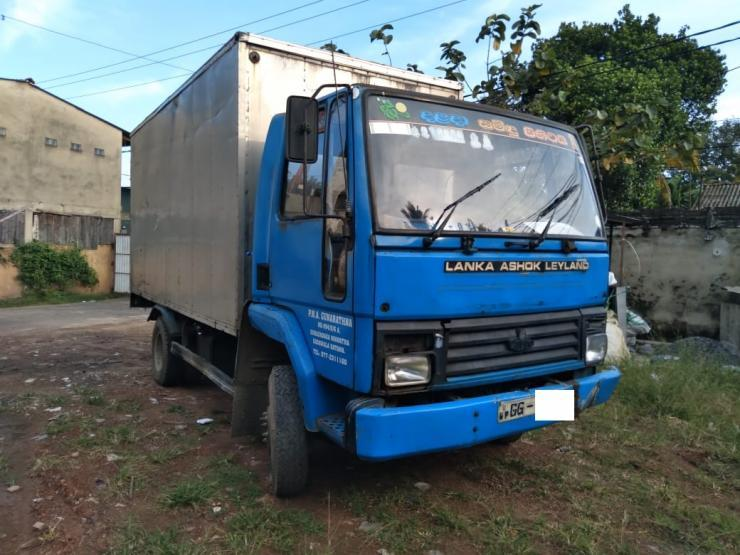truck: (129, 32, 620, 501)
